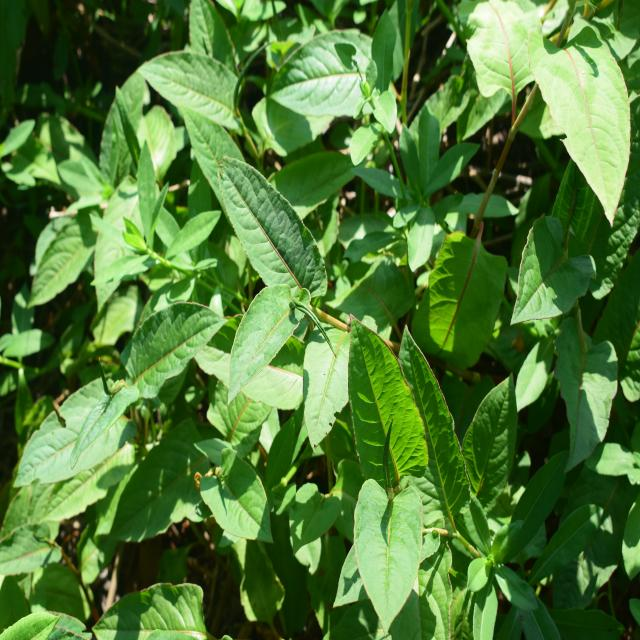Chinese_knotweed: (339, 323, 478, 618), (209, 161, 343, 428)
